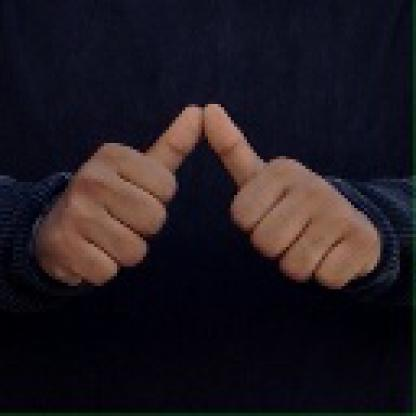A: (40, 100, 376, 294)
